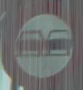No overtake: (8, 5, 73, 75)
